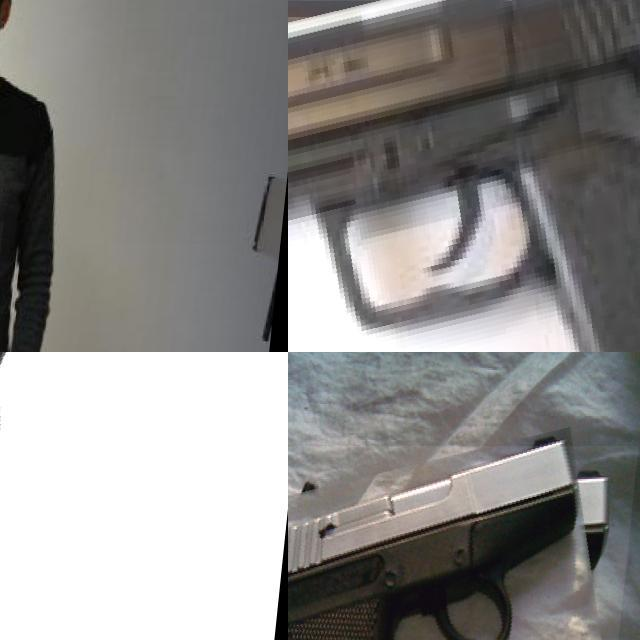-: (0, 221, 38, 282)
gun-knife-thesis - v11 Yolov5 augmented: (288, 0, 640, 352), (0, 352, 288, 640), (288, 446, 640, 640)
